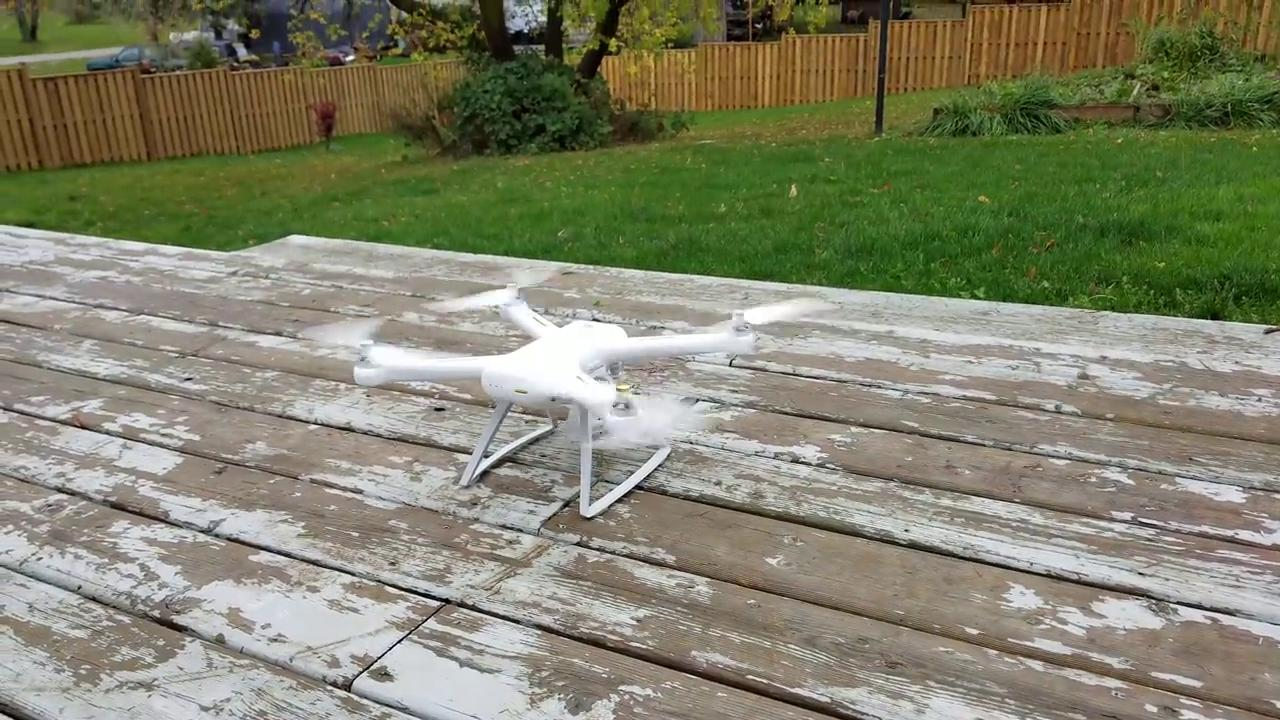drone: (300, 255, 832, 455)
